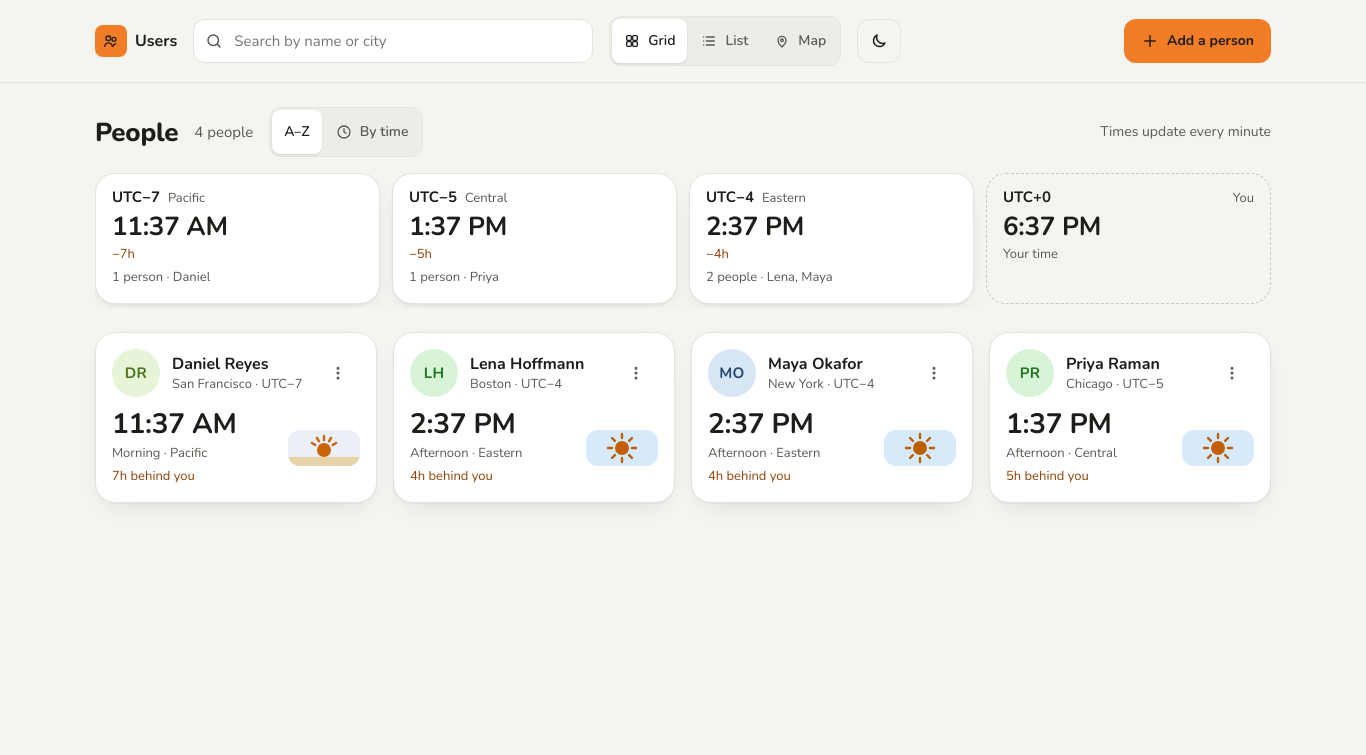
it: App › the actions menu closes when you click away, including on another card
Expected: the list named "People" is shown, x1=95 y1=332 x2=1271 y2=503
Click the button named "More actions for Lena Hoffmann" at [636, 373], box x1=614 y1=351 x2=658 y2=395
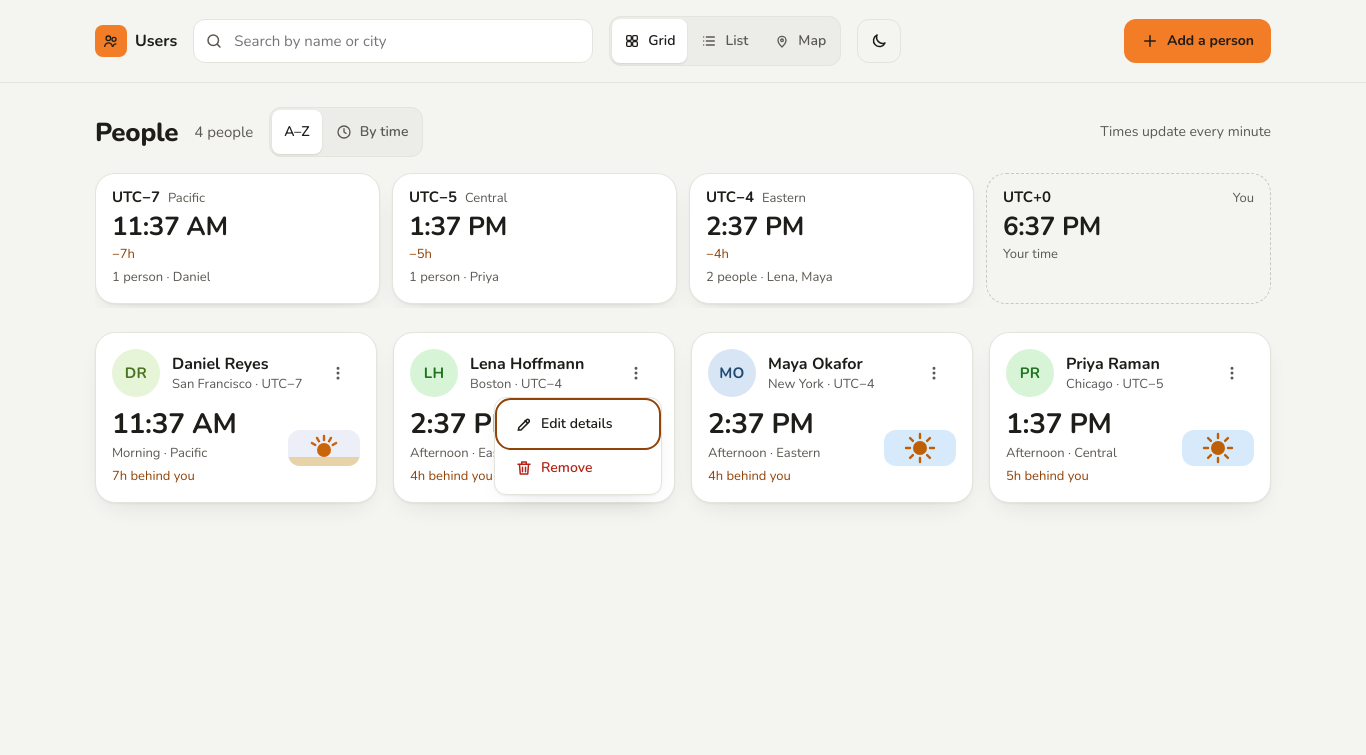
Expected: the menu is shown, x1=494 y1=397 x2=662 y2=495
Click the text "New York · UTC−4" at [821, 384], box x1=768 y1=374 x2=875 y2=394
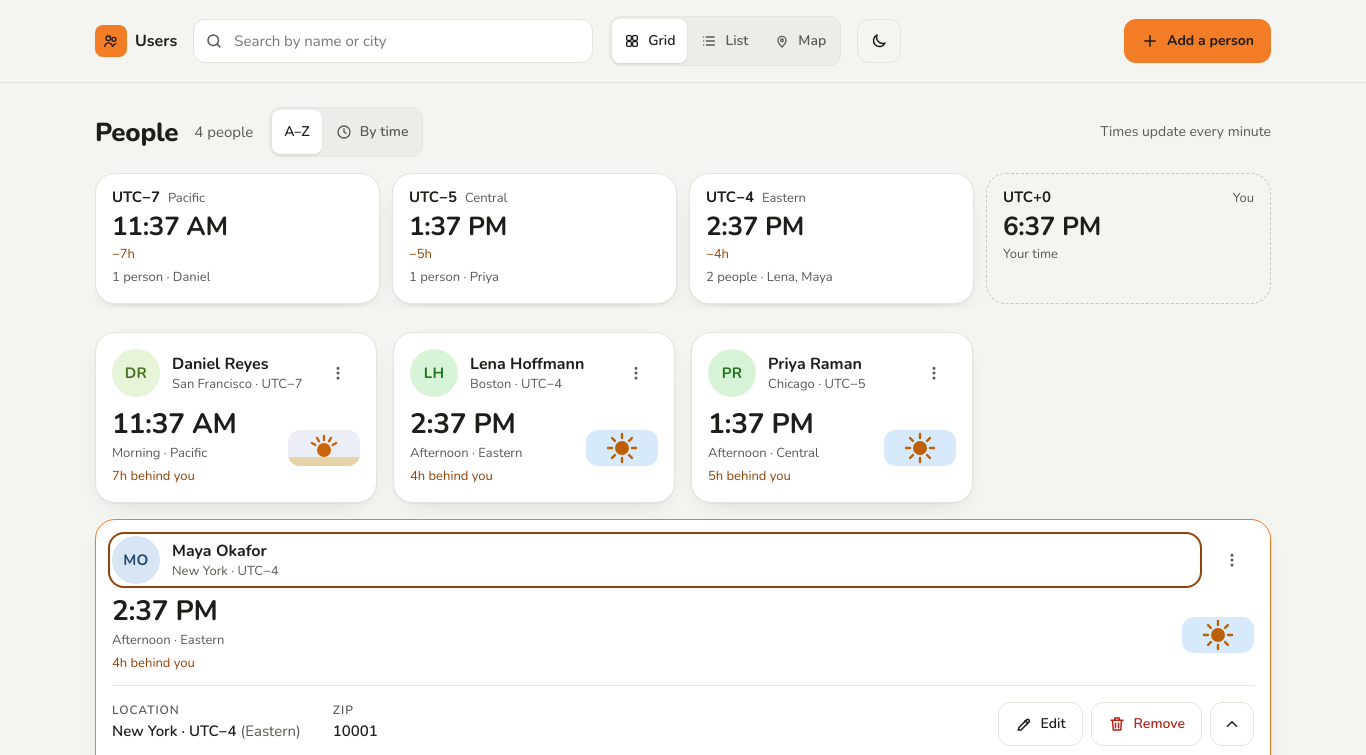
Expected: the menu is gone
